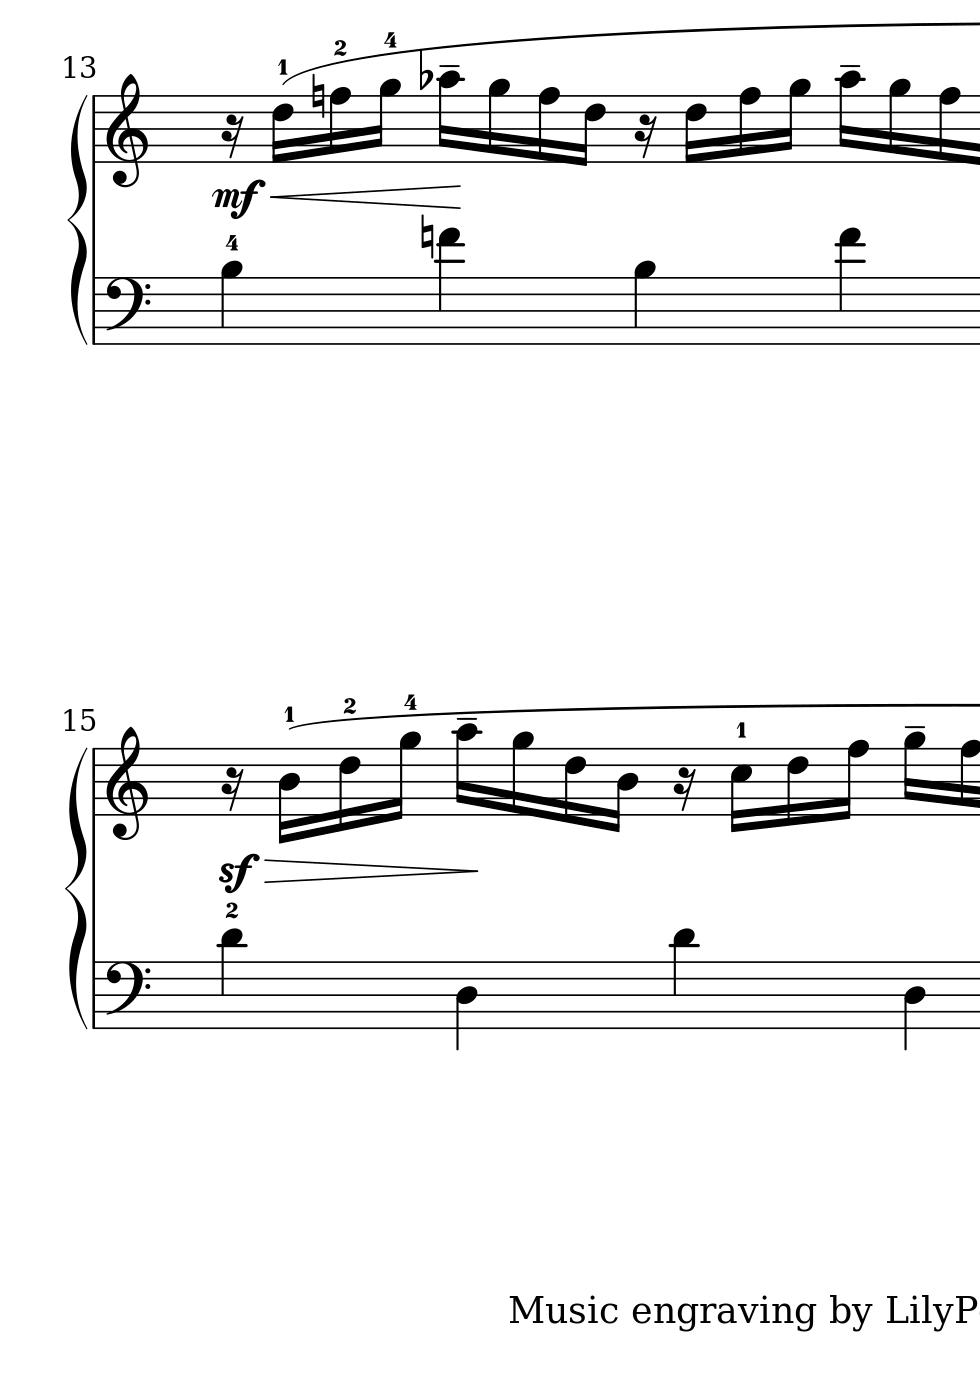1: (62, 54, 76, 81), (62, 707, 76, 734), (283, 702, 295, 725), (277, 56, 288, 77), (735, 721, 748, 739)
16_10: (452, 720, 482, 817), (435, 69, 463, 166), (836, 68, 863, 166)
16_4: (608, 745, 638, 834), (276, 745, 301, 844)
16_5: (727, 745, 752, 835)
16_6: (575, 93, 606, 168), (336, 745, 361, 834), (784, 745, 809, 828), (562, 745, 587, 827), (682, 92, 707, 166), (269, 93, 295, 166)
16_8: (835, 739, 868, 823), (736, 85, 762, 166), (327, 85, 351, 165), (536, 86, 560, 166), (937, 85, 961, 165), (957, 738, 980, 818)
16_9: (387, 729, 421, 822), (368, 77, 400, 165), (778, 77, 809, 166), (509, 729, 533, 819), (486, 76, 510, 165), (886, 76, 909, 164), (902, 729, 923, 819)
2: (331, 37, 349, 59), (223, 899, 240, 922), (343, 694, 356, 716)
3: (78, 53, 97, 81)
4: (382, 29, 398, 47), (403, 691, 417, 710)
4_11: (218, 927, 244, 1032)
4_13: (835, 227, 864, 347), (435, 227, 463, 347)
4_4: (902, 959, 926, 1052), (454, 960, 478, 1051)
4_9: (631, 258, 657, 346), (218, 259, 242, 346)
5: (78, 705, 97, 733)
8_11: (669, 924, 697, 1033)
Brace: (63, 744, 91, 1028), (67, 94, 90, 348)
Crescendo_hairpin: (269, 185, 462, 212)
Diminuendo_hairpin: (265, 858, 480, 883)
Fclef: (101, 959, 151, 1031), (101, 276, 150, 347)
Flat: (416, 48, 433, 93)
Gclef: (104, 723, 148, 842), (104, 71, 148, 189)
Marcato_above: (223, 232, 240, 255)
Natural: (417, 212, 435, 261), (308, 71, 325, 120)
Rests16: (220, 113, 244, 161), (220, 766, 244, 813), (672, 766, 697, 813), (633, 113, 657, 160)
Single_barline: (88, 748, 102, 815), (88, 97, 102, 163), (88, 961, 102, 1028), (89, 277, 102, 344)
mf: (210, 177, 265, 220)
sf: (216, 853, 258, 894)
